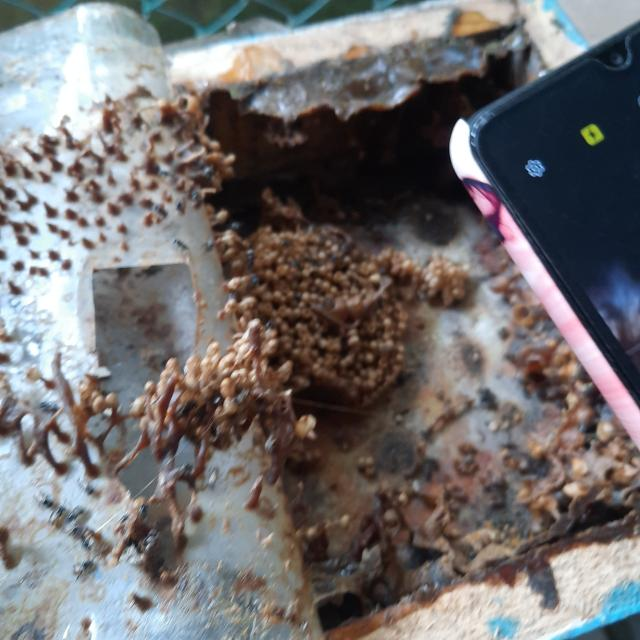honeybee: (72, 479, 108, 501), (106, 510, 134, 532), (69, 558, 95, 574), (34, 486, 46, 520), (132, 496, 148, 514), (64, 506, 84, 519), (48, 503, 57, 525), (136, 534, 154, 545), (71, 525, 86, 536)
